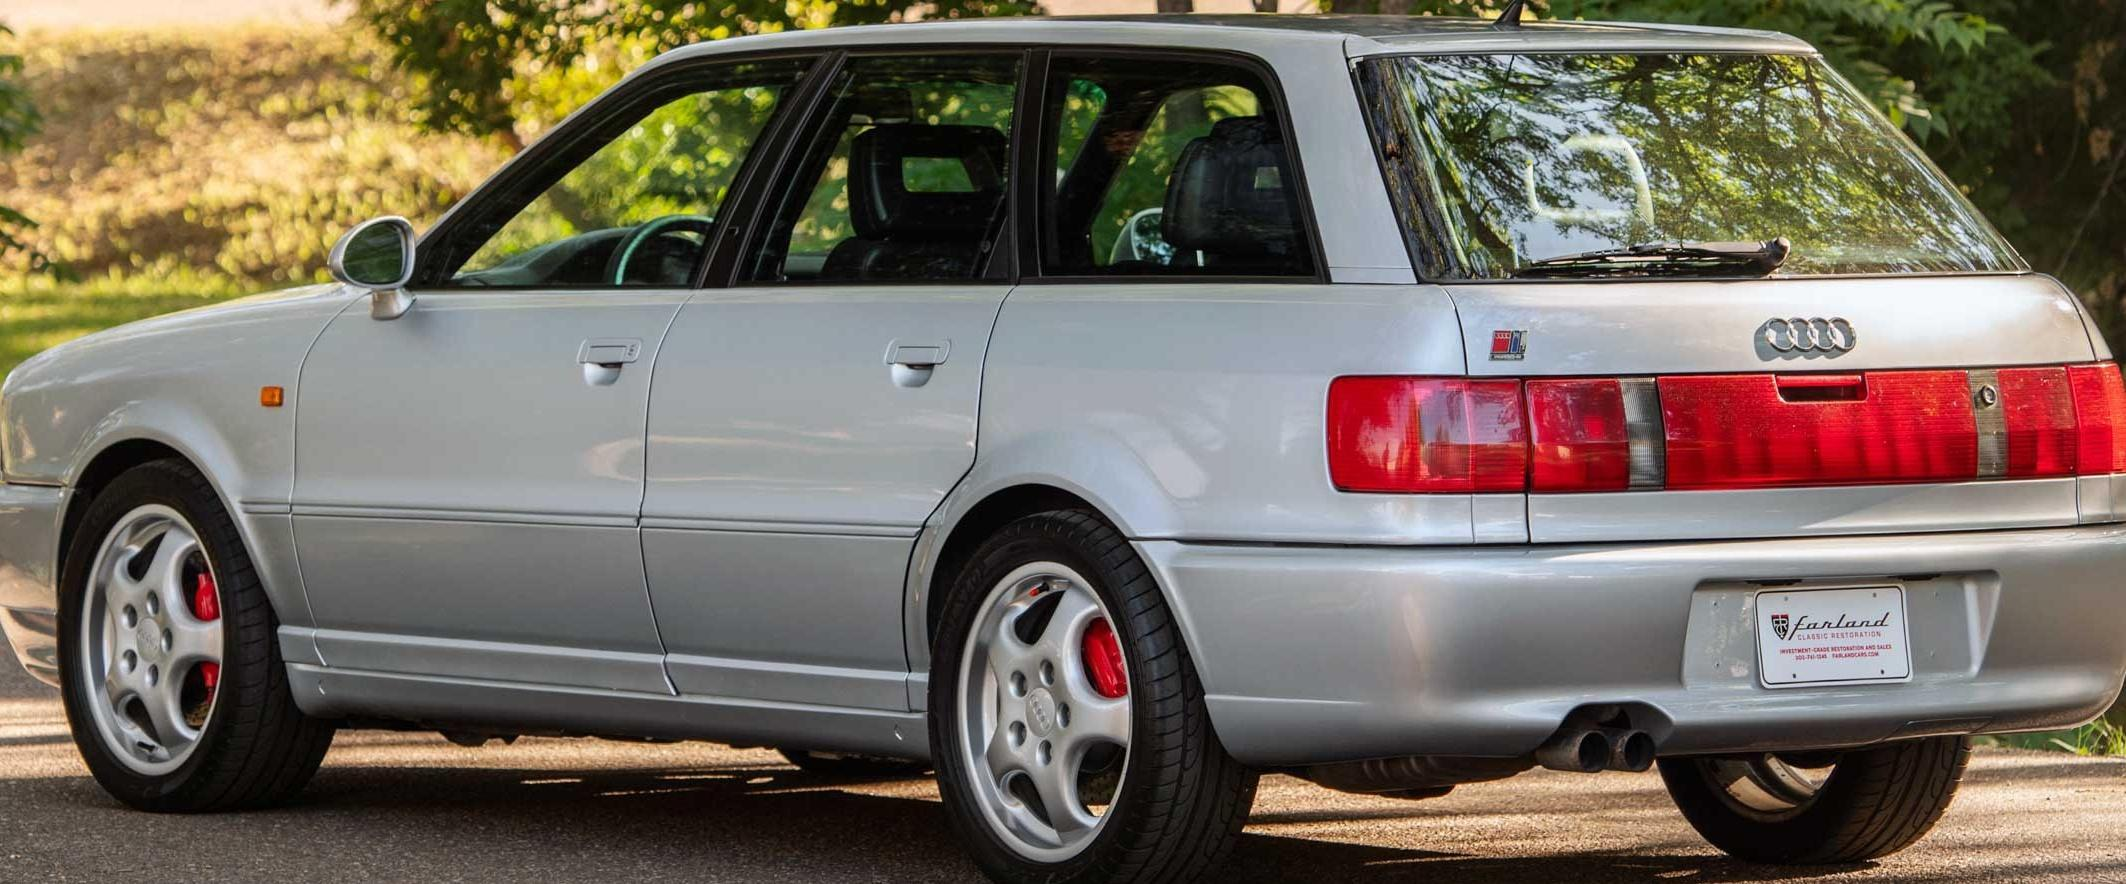Crossovers: (1, 22, 2126, 881)
